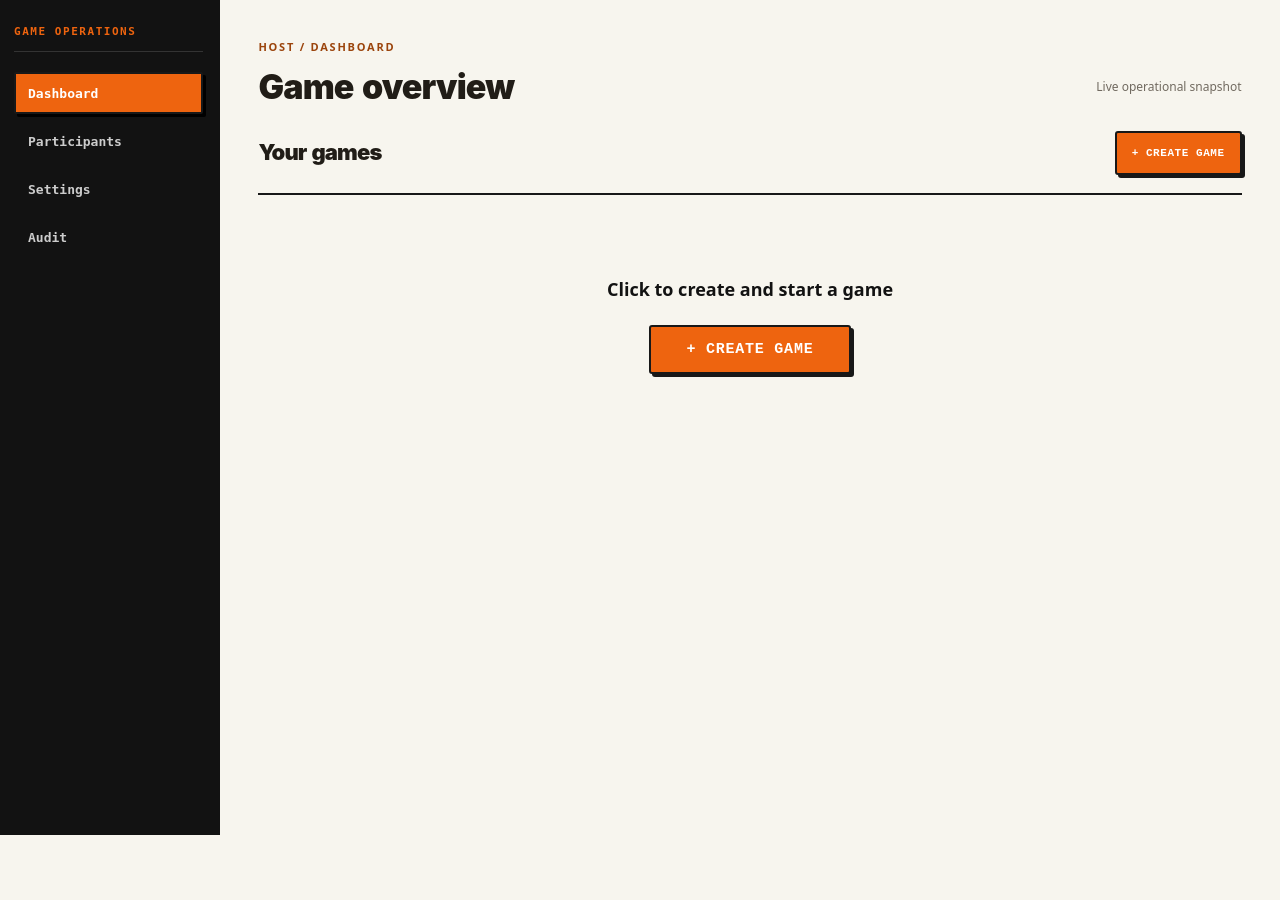
Test: admin dashboard › opens per-game questions setup and cancels without creating a game
Click the button "+ Create Game" in the row of "Your games" at {"x": 1178, "y": 153}, box [1115,131,1242,175]
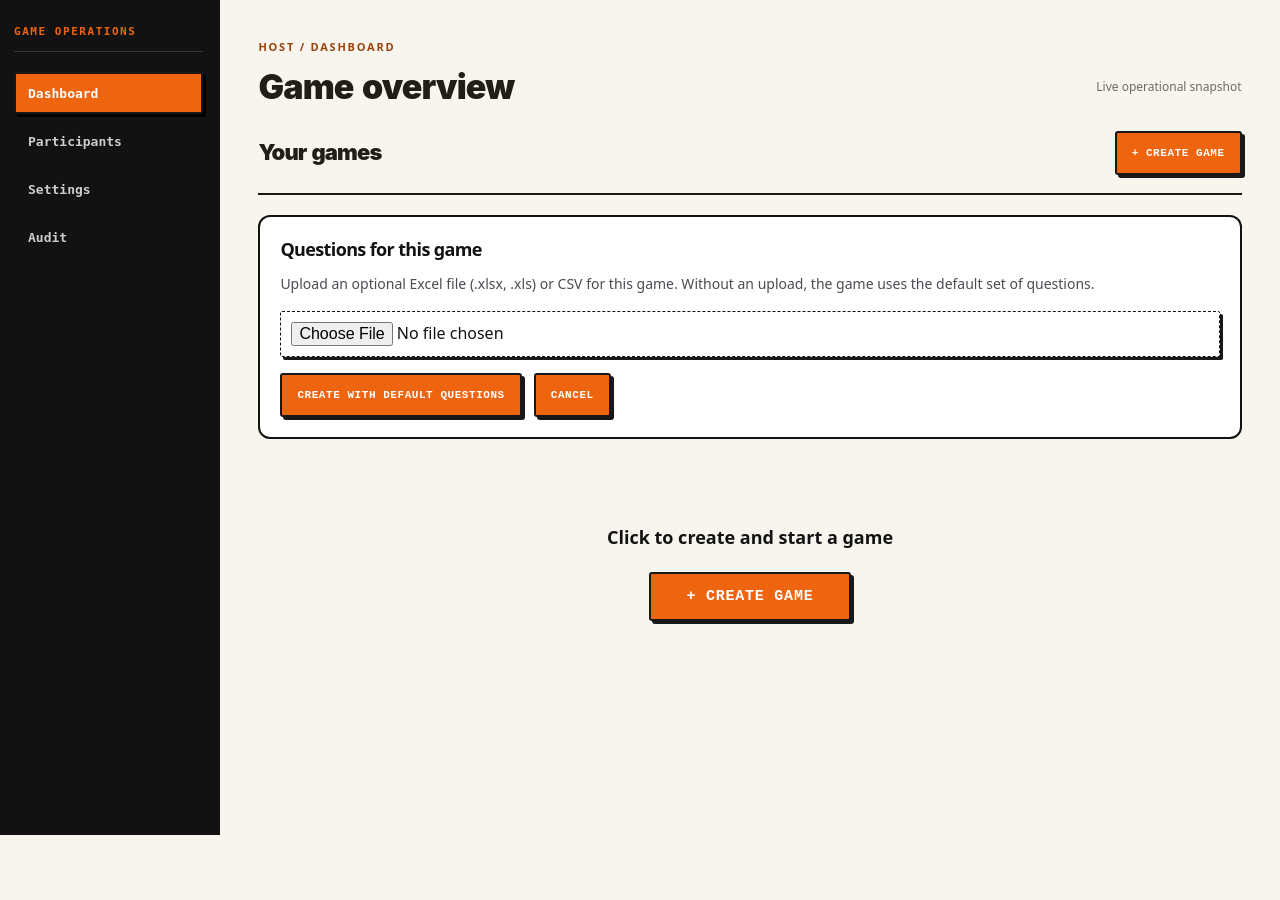
Expected: the heading "Questions for this game" is shown, [280,237,482,261]
Expected: the file field named "Questions file (optional)" is shown, [280,311,1220,357]
Click the button "Cancel" at {"x": 572, "y": 395}, box [534,373,611,417]
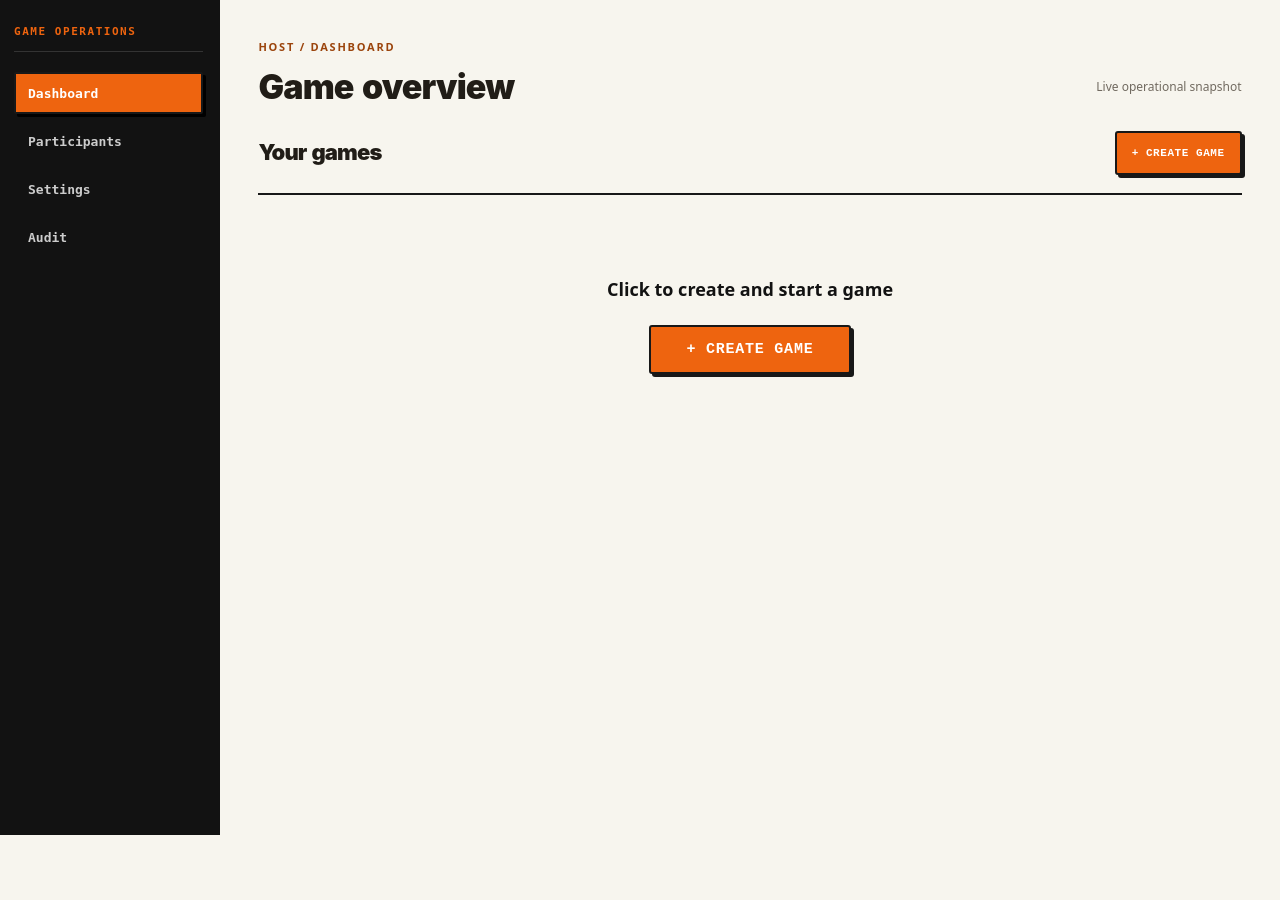
Expected: the heading "Questions for this game" is gone
